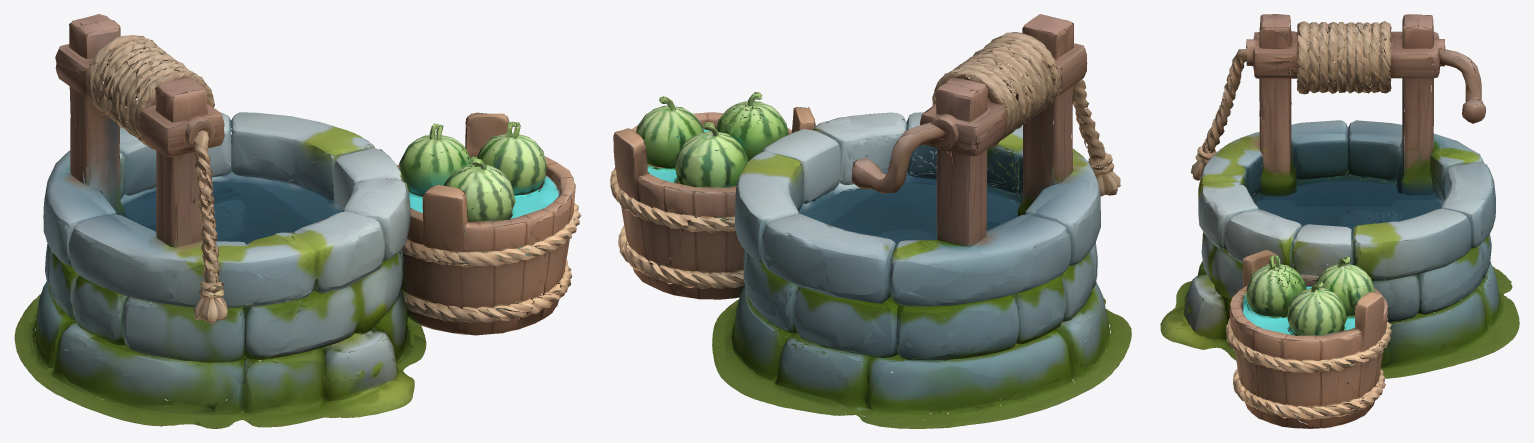
File: well.glb
3 renders of one model, left to right at view 1: azimuth 30°, elevation 25°; view 2: azimuth 150°, elevation 25°; view 3: azimuth 270°, elevation 25°, orthographic. The views are drawn at different scales.
Visible parts, largest first — view 1: node_0; view 2: node_0; view 3: node_0.
Part boxes in pixels (box(x1,y1,x2,y2)): node_0: box(14, 14, 581, 428); node_0: box(610, 14, 1131, 428); node_0: box(1160, 14, 1519, 428).
Bounding box in the file's own units: 1.04 × 0.6078 × 0.7769.
1 material, 1 textured.
